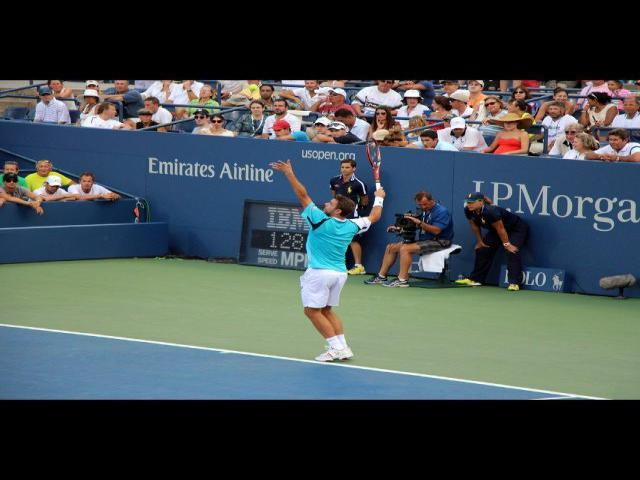tennis-ball: (248, 83, 260, 91)
